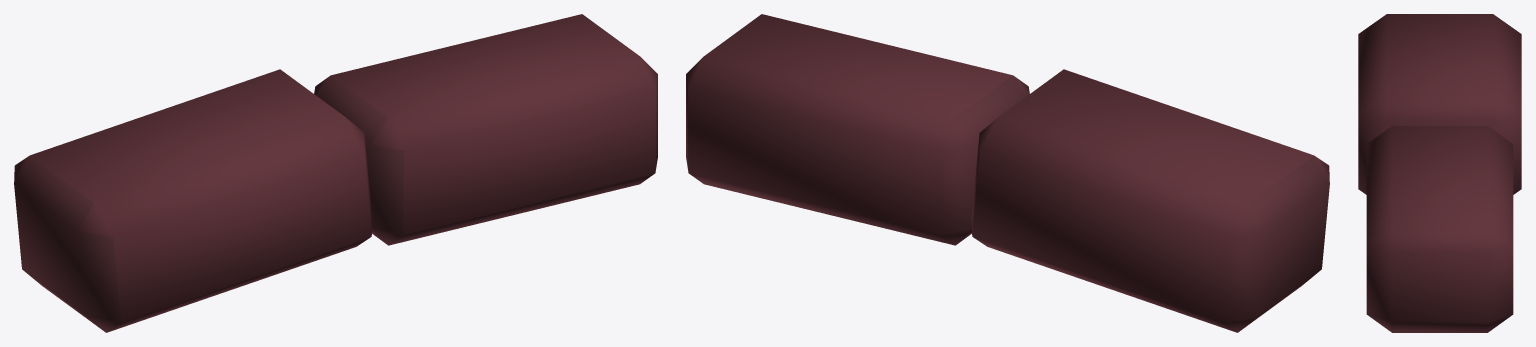
File: Tijolo.fbx
The picture shows the model from 3 angles, left to right: view 1: azimuth 30°, elevation 25°; view 2: azimuth 150°, elevation 25°; view 3: azimuth 270°, elevation 25°; orthographic projection. The views are drawn at different scales.
Parts seen in each view (by area): view 1: Tijolo; view 2: Tijolo; view 3: Tijolo.
Boxes of the visible parts, x1,y1,x2,y2 form: Tijolo: (14, 14, 657, 332); Tijolo: (686, 14, 1329, 332); Tijolo: (1358, 14, 1521, 332).
Size of the model in its own units: 146 by 42.84 by 37.96.
